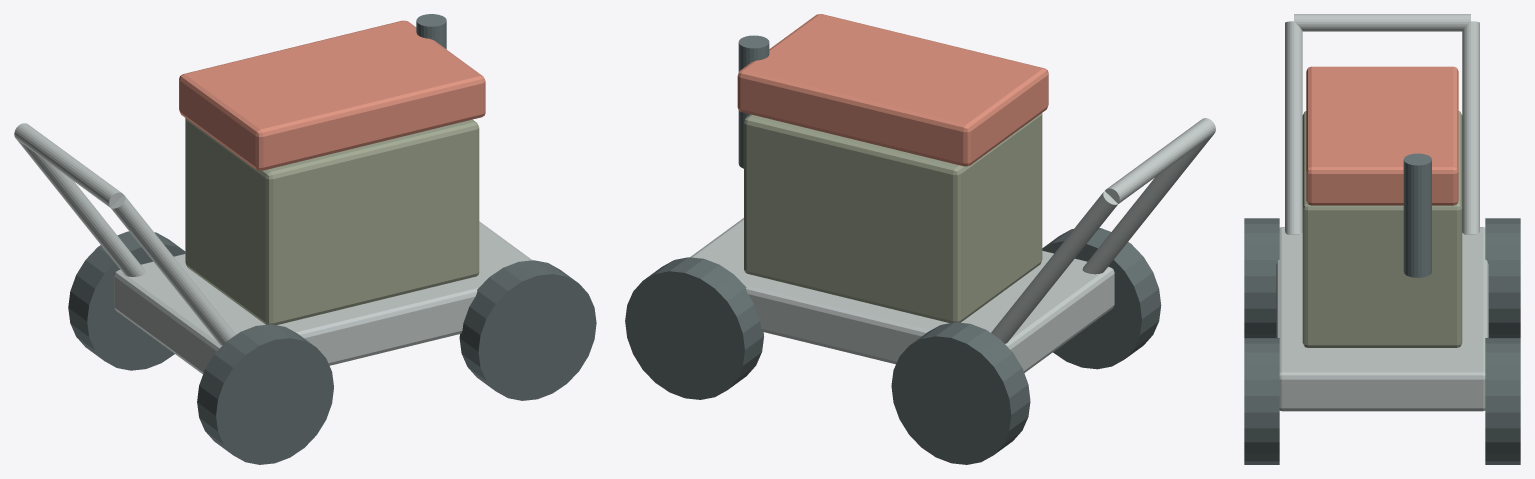
The picture shows the model from 3 angles, left to right: view 1: azimuth 30°, elevation 25°; view 2: azimuth 150°, elevation 25°; view 3: azimuth 270°, elevation 25°; orthographic projection. The views are drawn at different scales.
Visible parts, largest first — view 1: generator engine, fuel tank, cart frame, wheel, wheel.002, wheel.001, handle, handle.001, push bar, exhaust; view 2: generator engine, fuel tank, cart frame, wheel.001, wheel.003, wheel, handle.001, handle, push bar, exhaust; view 3: generator engine, fuel tank, cart frame, wheel.002, wheel.003, wheel, wheel.001, handle, handle.001, exhaust, push bar.
Part boxes in pixels (<box>): generator engine: <box>185,118,479,325</box>; fuel tank: <box>179,20,485,170</box>; cart frame: <box>114,221,532,373</box>; wheel: <box>197,324,333,464</box>; wheel.002: <box>459,260,596,400</box>; wheel.001: <box>68,231,185,370</box>; handle: <box>111,195,235,345</box>; handle.001: <box>14,135,145,276</box>; push bar: <box>14,123,123,207</box>; exhaust: <box>416,14,446,49</box>; generator engine: <box>744,113,1042,322</box>; fuel tank: <box>737,14,1048,166</box>; cart frame: <box>690,218,1114,372</box>; wheel.001: <box>891,322,1030,464</box>; wheel.003: <box>625,257,763,399</box>; wheel: <box>1042,228,1161,369</box>; handle.001: <box>991,191,1117,343</box>; handle: <box>1082,130,1215,274</box>; push bar: <box>1105,118,1215,203</box>; exhaust: <box>738,35,769,168</box>; generator engine: <box>1302,111,1462,347</box>; fuel tank: <box>1306,66,1458,205</box>; cart frame: <box>1276,227,1488,411</box>; wheel.002: <box>1244,338,1279,464</box>; wheel.003: <box>1485,338,1520,464</box>; wheel: <box>1244,218,1279,337</box>; wheel.001: <box>1485,218,1520,337</box>; handle: <box>1285,21,1302,234</box>; handle.001: <box>1462,21,1479,234</box>; exhaust: <box>1403,153,1431,277</box>; push bar: <box>1294,14,1470,31</box>.
Bounding box in the file's own units: 1.41 × 0.915 × 0.78.
